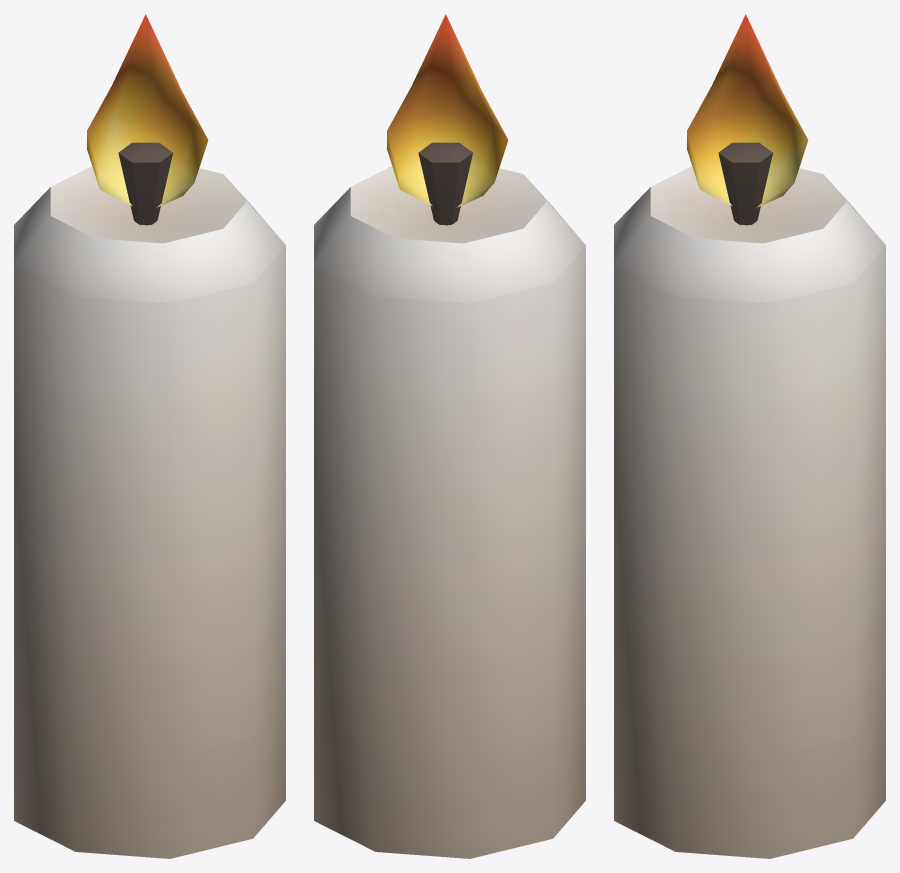
The model's file is candle_lit.glb.
3 views of the same model, side by side, from view 1: azimuth 30°, elevation 25°; view 2: azimuth 150°, elevation 25°; view 3: azimuth 270°, elevation 25° (orthographic).
Visible parts, largest first — view 1: candle_lit; view 2: candle_lit; view 3: candle_lit.
Boxes of the visible parts, x1,y1,x2,y2 form: candle_lit: (14,14,285,858); candle_lit: (314,14,585,858); candle_lit: (614,14,885,858).
Bounding box in the file's own units: 0.3344 × 1.05 × 0.3293.
1 material, 1 textured.
